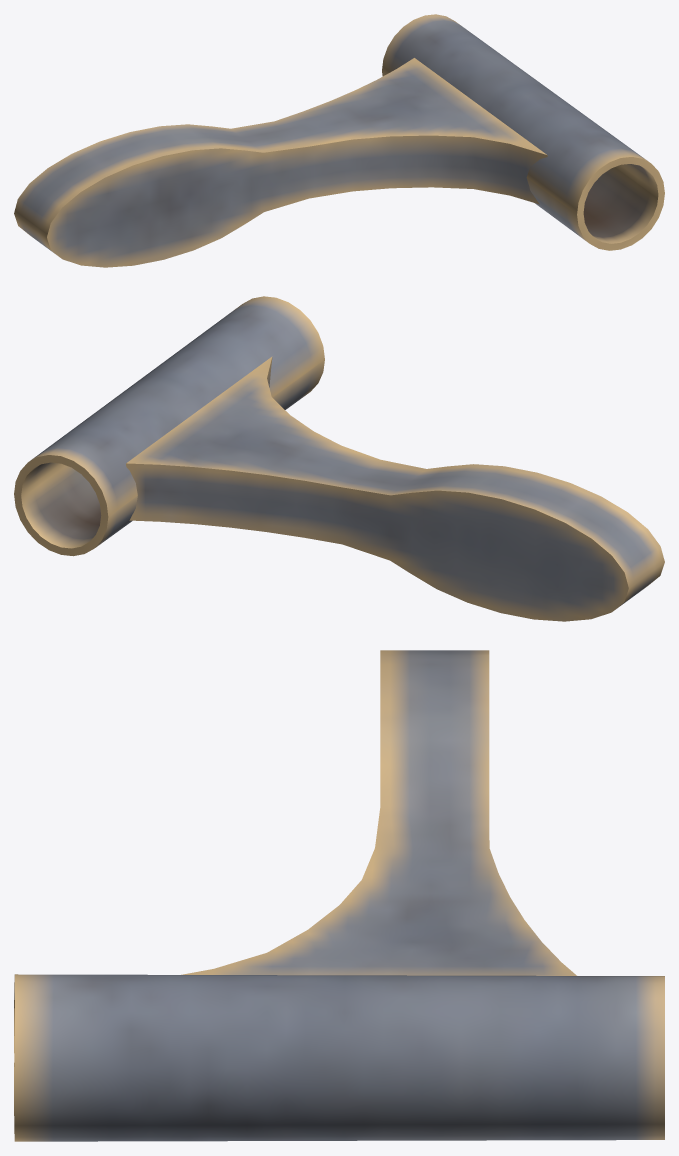
The model's file is SM_Chevallier_01c.fbx.
3 views of the same model, one above another, from view 1: azimuth 30°, elevation 25°; view 2: azimuth 150°, elevation 25°; view 3: azimuth 270°, elevation 25° (orthographic). The views are drawn at different scales.
Parts seen in each view (by area): view 1: SM_Chevallier_01c_LOD0; view 2: SM_Chevallier_01c_LOD0; view 3: SM_Chevallier_01c_LOD0.
Boxes of the visible parts, x1,y1,x2,y2 form: SM_Chevallier_01c_LOD0: (14,14,664,267); SM_Chevallier_01c_LOD0: (14,296,664,621); SM_Chevallier_01c_LOD0: (14,650,664,1141).
Bounding box in the file's own units: 2.69 × 1.8 × 0.5258.
